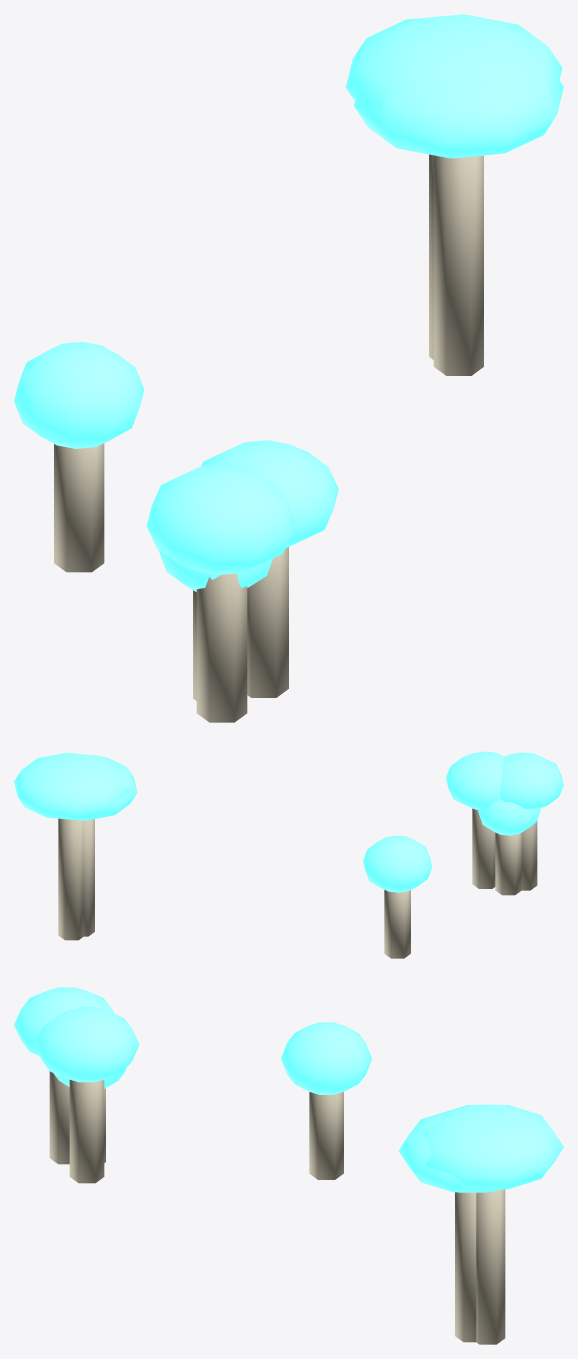
Rendered from prop_jamur_nyala.glb.
The picture shows the model from 3 angles, top to bottom: view 1: azimuth 30°, elevation 25°; view 2: azimuth 150°, elevation 25°; view 3: azimuth 270°, elevation 25°; orthographic projection. The views are drawn at different scales.
Parts seen in each view (by area): view 1: jamur_nyala; view 2: jamur_nyala; view 3: jamur_nyala.
Boxes of the visible parts, box(x1,y1,x2,y2) form: jamur_nyala: box(14, 14, 563, 722); jamur_nyala: box(14, 751, 563, 958); jamur_nyala: box(14, 987, 563, 1344).
Size of the model in its own units: 0.7953 by 0.3555 by 0.7964.
